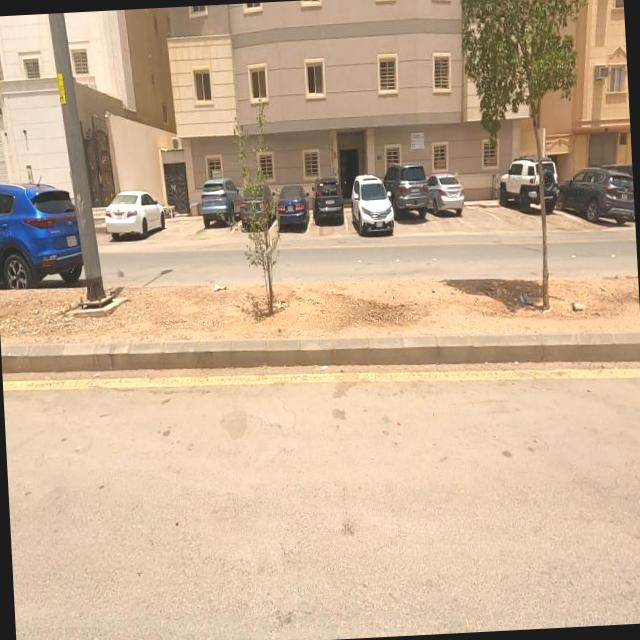debris: (496, 262, 548, 338), (194, 256, 242, 314), (556, 280, 594, 334)
